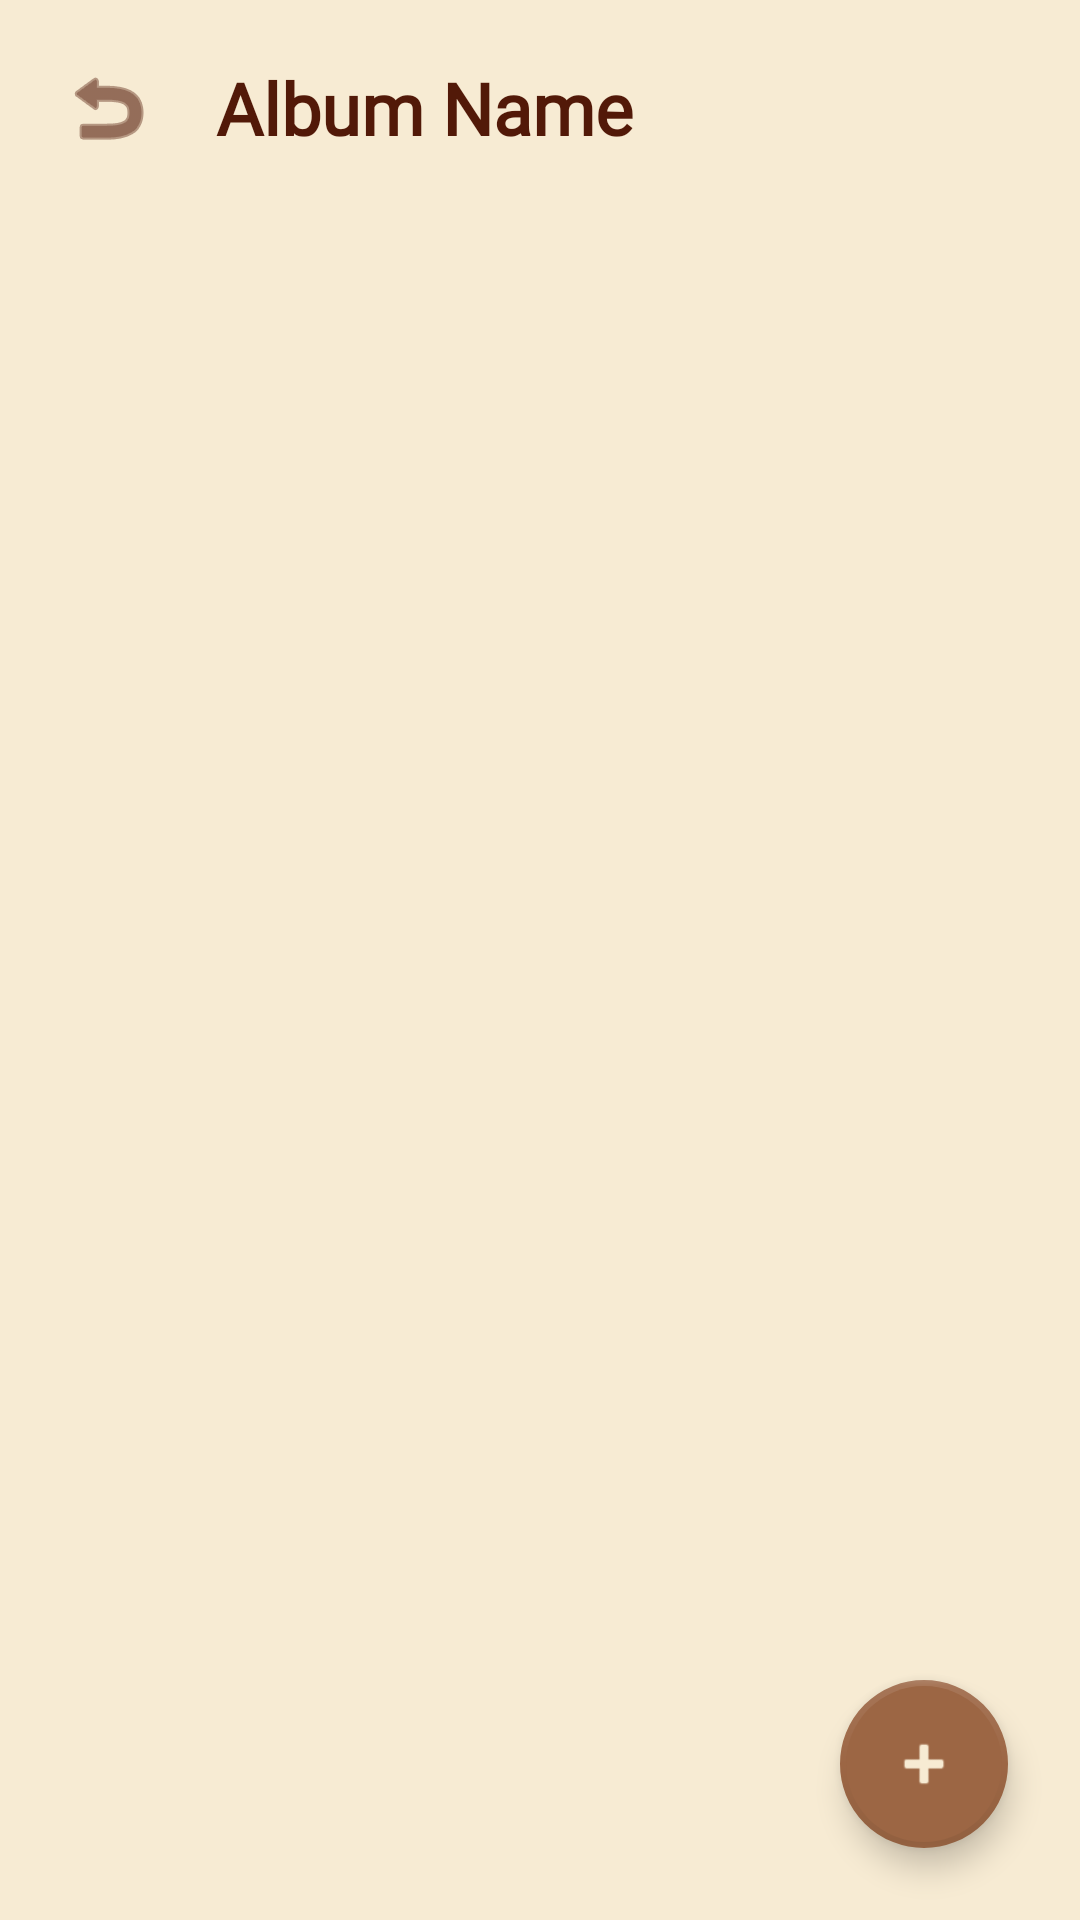

Named icons in this screenshot (1080x1920) and their centers, point (x, y):
Add Picture to Album: point (924, 1764)
Back: point (109, 108)
